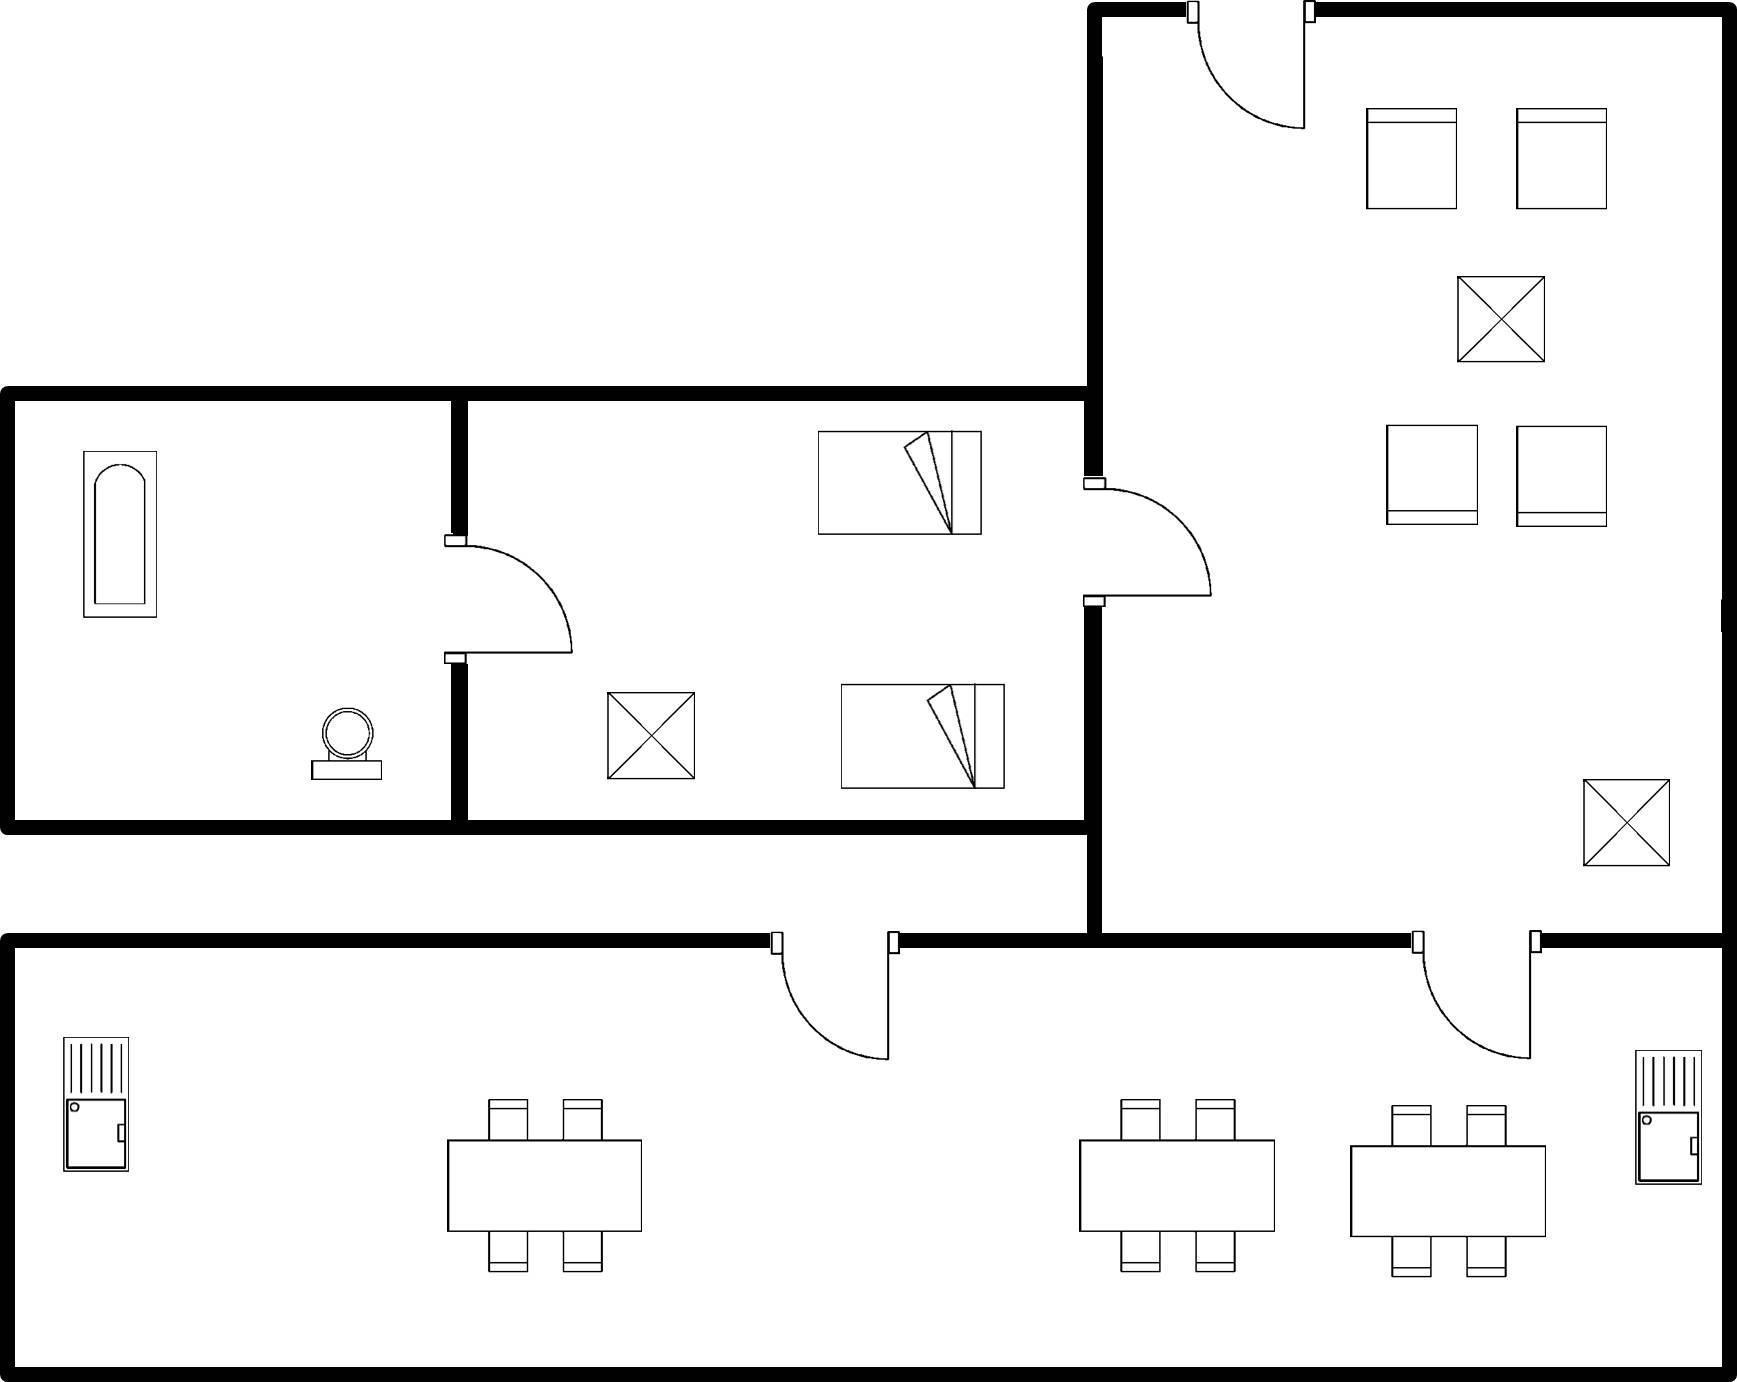bed: (804, 419, 993, 544), (828, 673, 1017, 797)
dining_table: (1059, 1083, 1289, 1280), (1334, 1091, 1557, 1292), (436, 1087, 653, 1280)
sink: (1624, 1036, 1712, 1194), (54, 1027, 140, 1185)
toilet: (300, 697, 391, 791)
tub: (70, 441, 171, 628)
